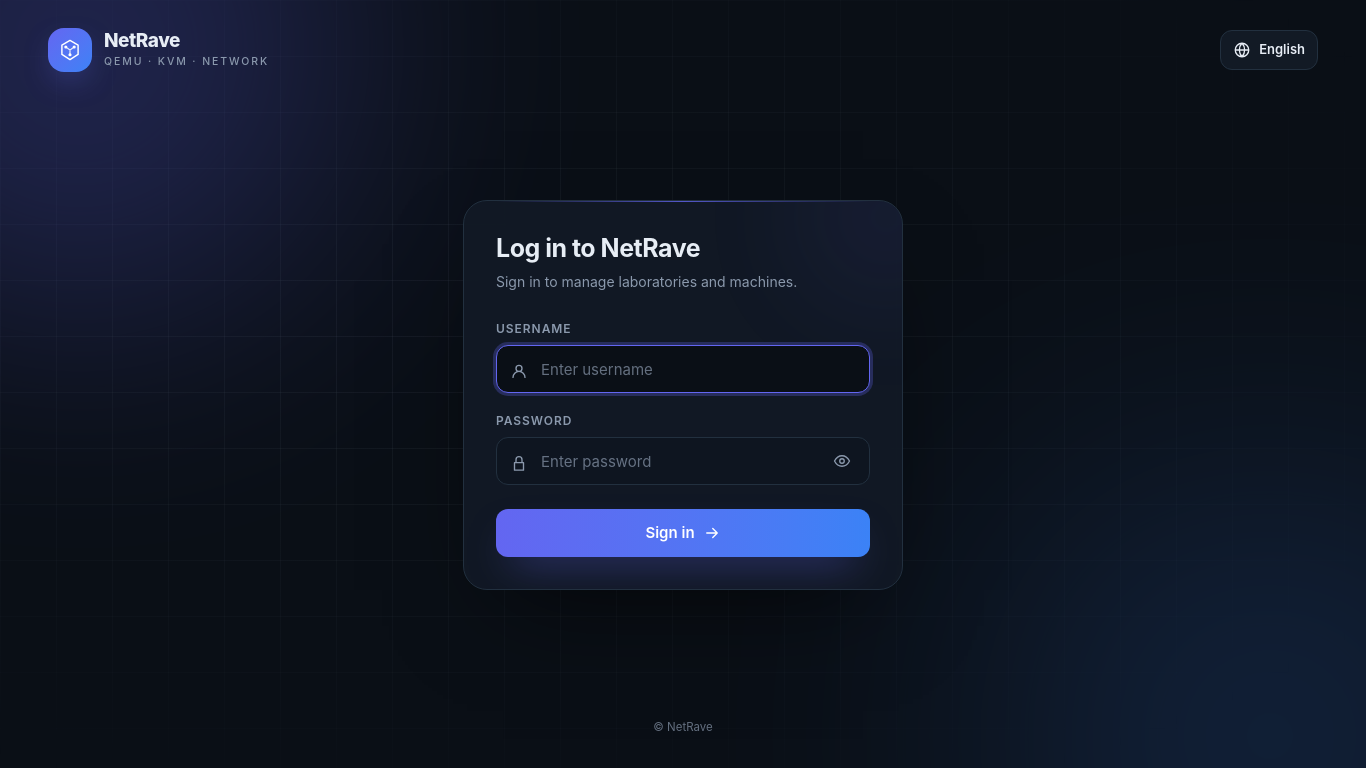
Test case: LoginPage behaviour › maps backend status 0 to a clear message
Type "admin" into the field labelled "Username" at (683, 369), box x1=496 y1=345 x2=870 y2=393
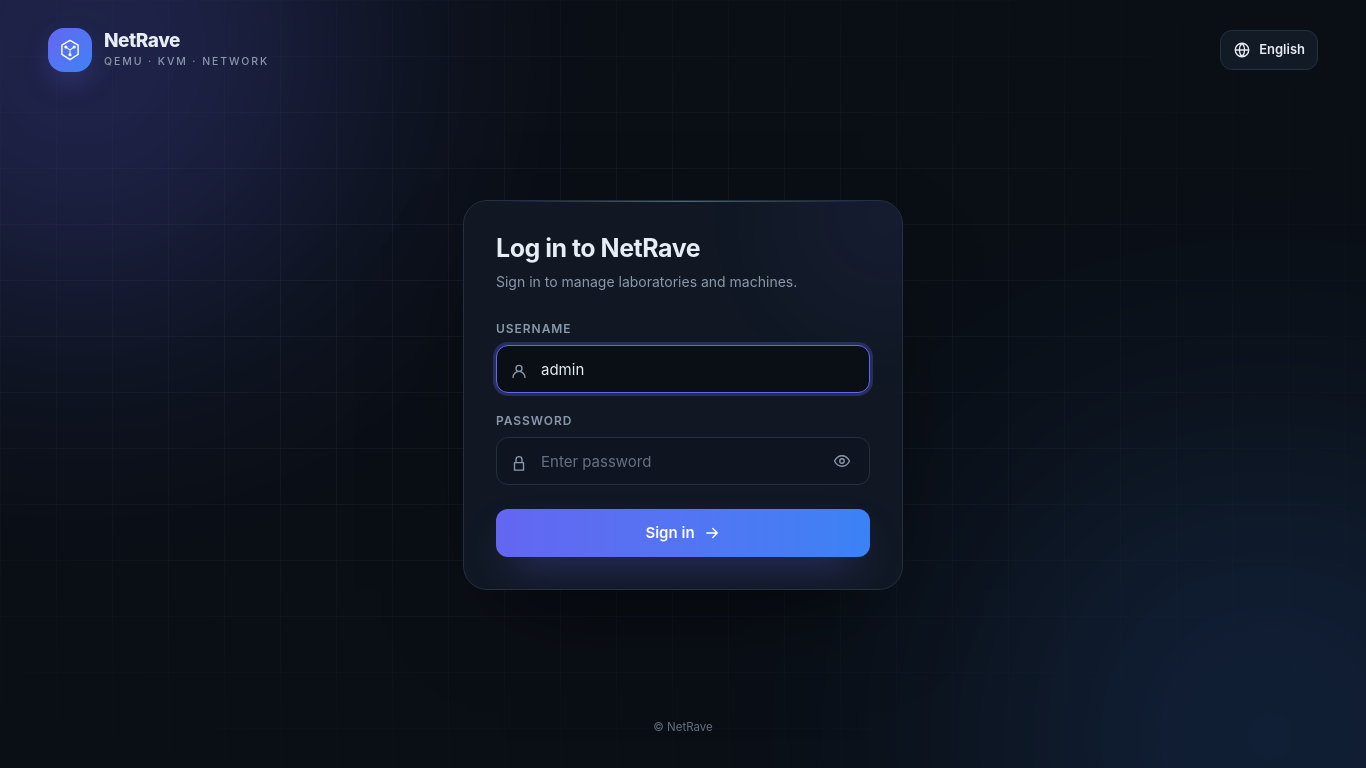
Type "wrong" into the password field labelled "Password" at (683, 461), box x1=496 y1=437 x2=870 y2=485
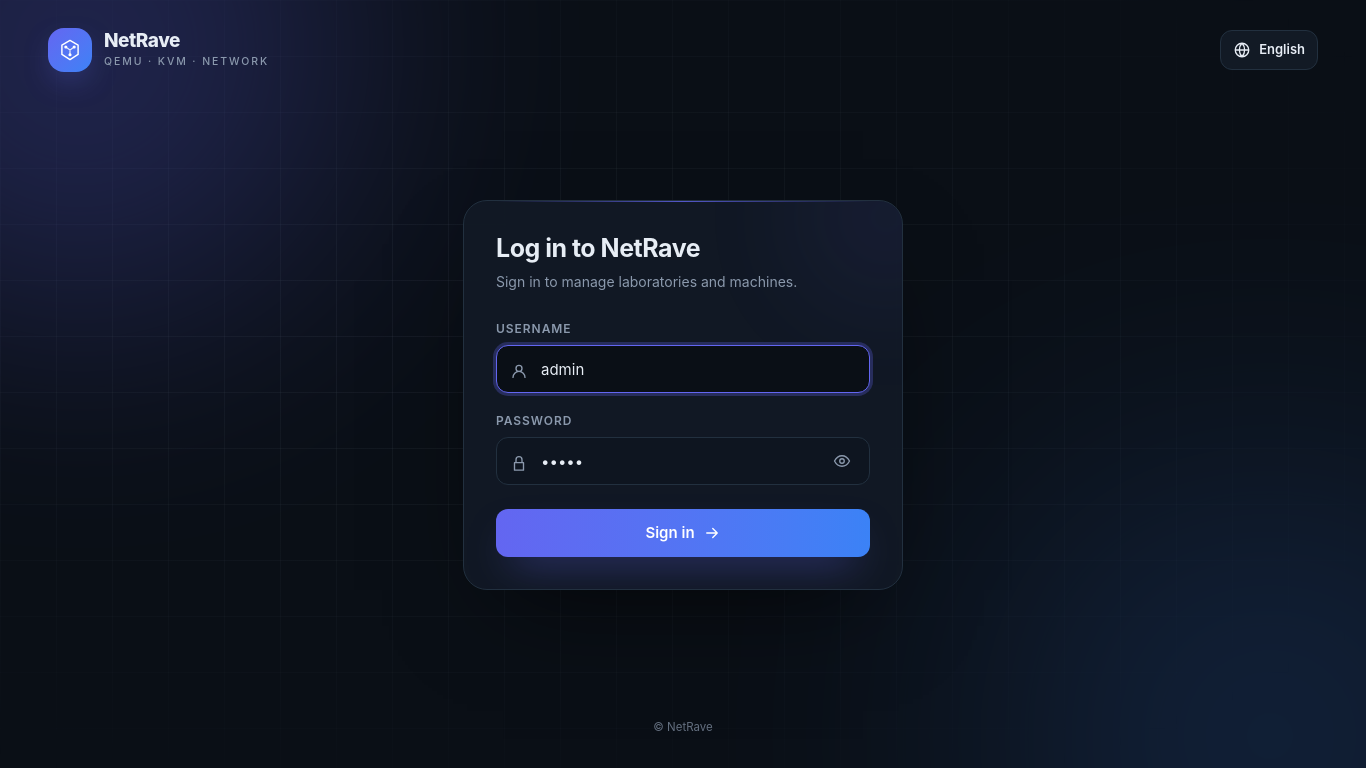
Click the button "Sign in" at (683, 533), box x1=496 y1=509 x2=870 y2=557
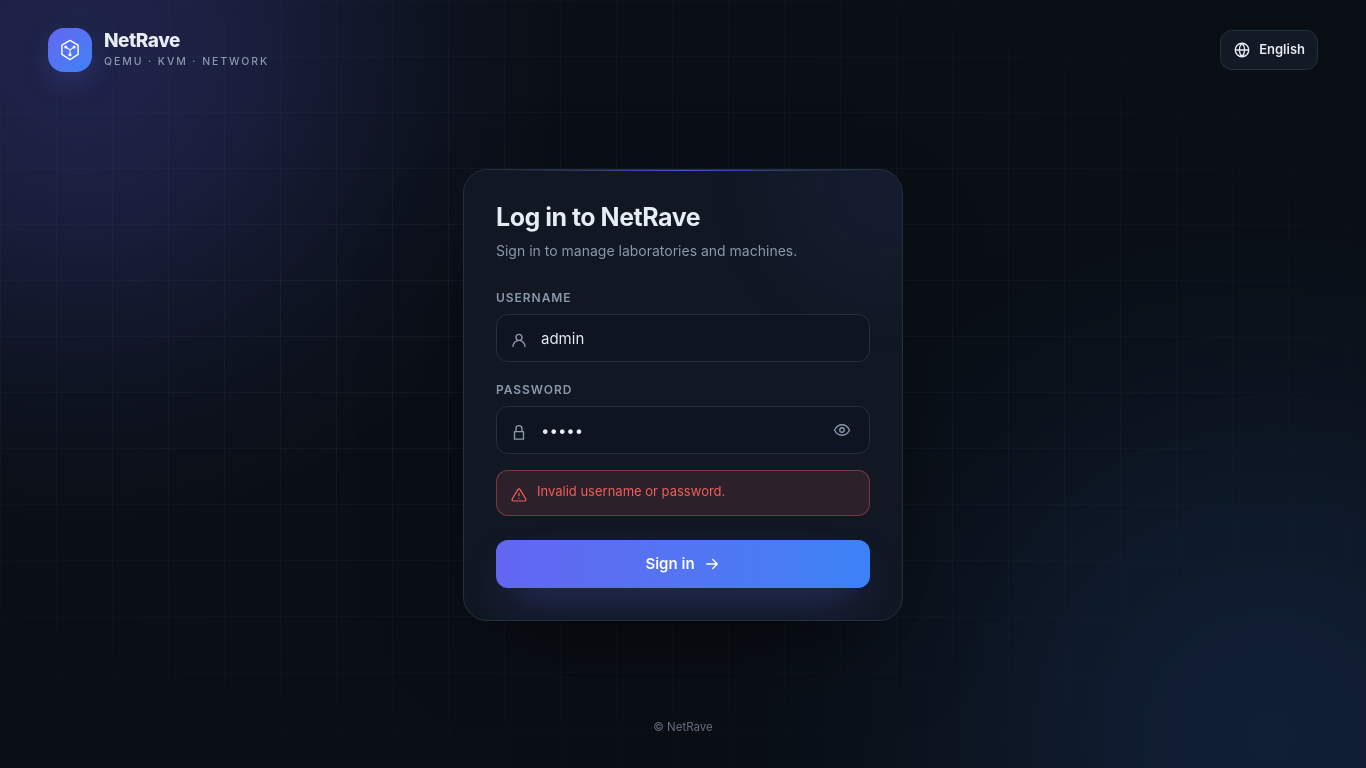
Check: the message reads "Invalid username or password.", box x1=537 y1=483 x2=725 y2=499
